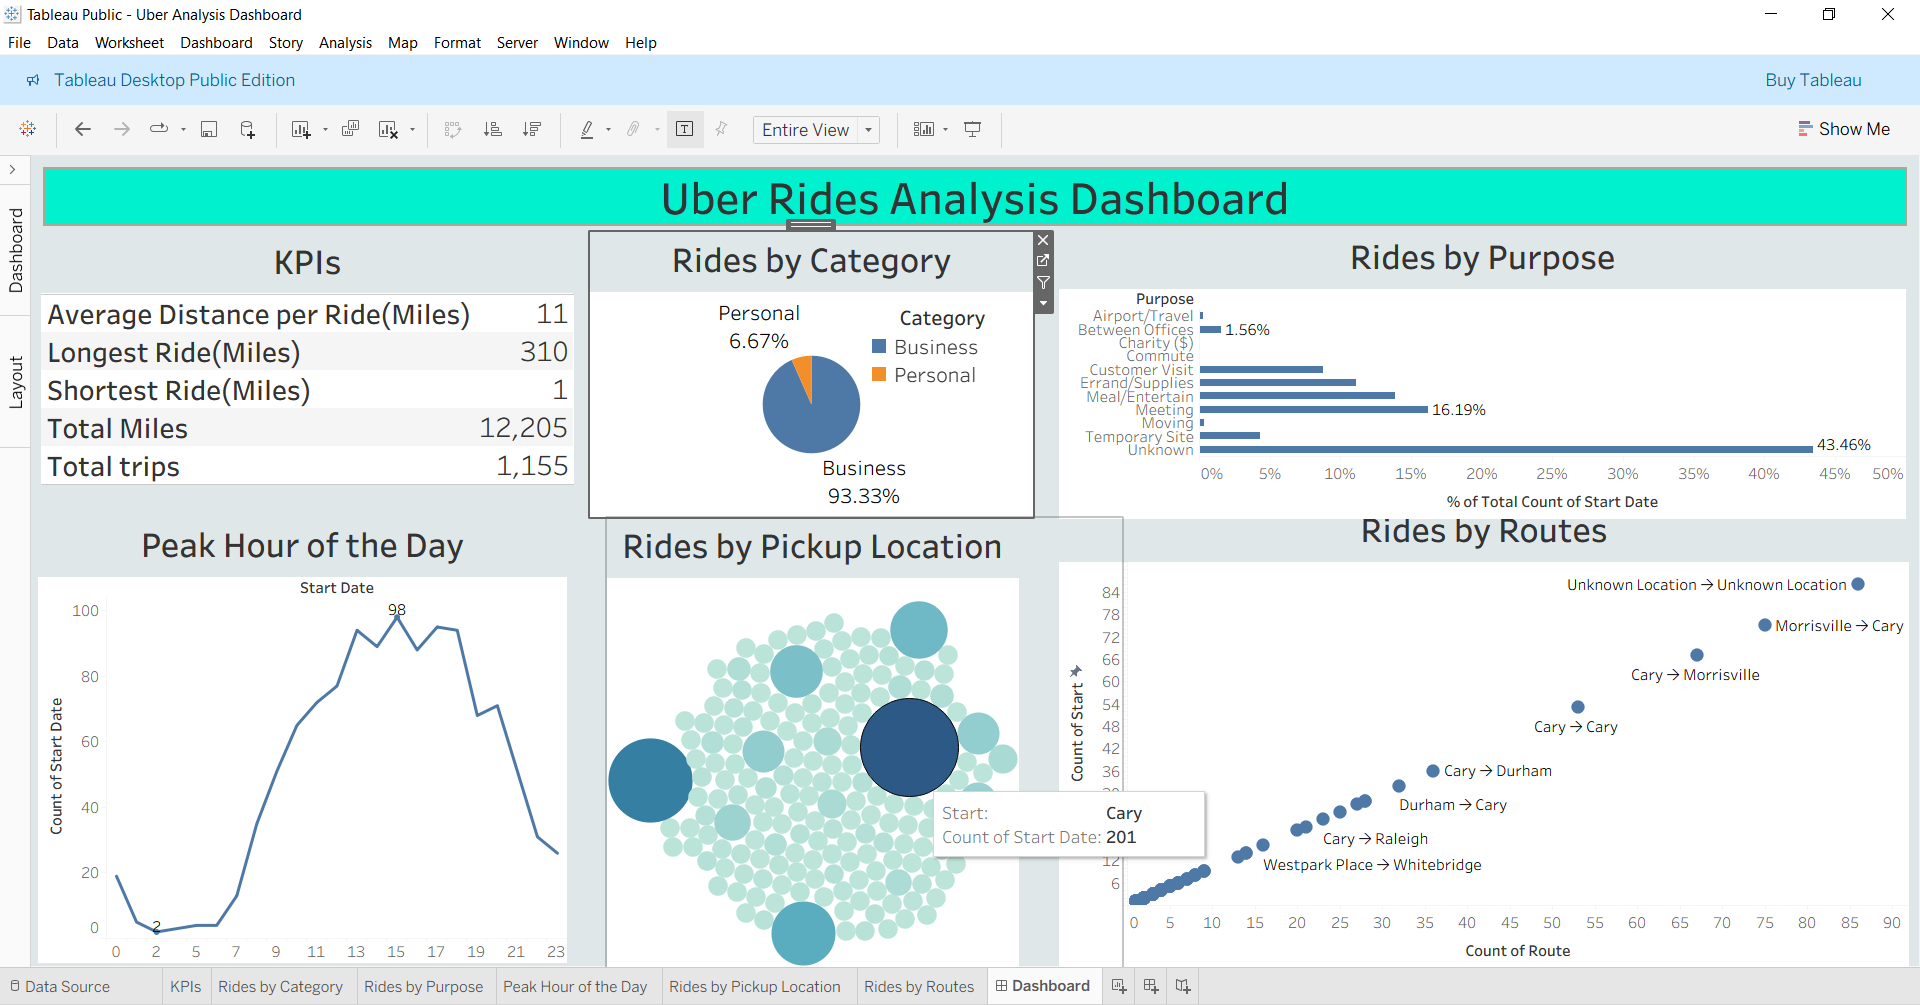

Layout of this report page (visuals, bound fields, positions):
{"tool":"tableau","page":{"name":"Dashboard ","canvas":[1000,1000],"units":"permille","ordinal":0},"visuals":[{"type":"title","box":[4.2,9.9,991.5,82.6]},{"type":"worksheet","title":"Rides by Purpose","mark":"Bar","rows":["PURPOSE"],"cols":["START_DATE"],"box":[544.5,91.2,448.6,357.6]},{"type":"worksheet","title":"Rides by Category","mark":"Pie","box":[296.1,94.9,234.6,351.4]},{"type":"worksheet","title":"KPIs","mark":"Automatic","box":[5.3,97.4,288.7,419.2]},{"type":"legend","title":"Rides by Category","param":"[federated.1jiniq50g6czeo178vxg6049gm0p].[none:CATEGORY:nk]","box":[441.7,182.5,82.1,104.8]},{"type":"worksheet","title":"Rides by Routes","mark":"Circle","rows":["START"],"cols":["Route"],"box":[544.5,427.9,450.2,574.6]},{"type":"worksheet","title":"Peak Hour of the Day","mark":"Line","rows":["START_DATE"],"cols":["START_DATE"],"box":[3.6,446.4,280,549.9]}]}

Visuals, with their boxes on the dashboard's canvas, which has no fixed pixel size, in thousandths of its width and height (x1, y1, x2, y2). These are canvas units, not pixel positions in the 1920x1005 screenshot, which may show the page scaled, cropped or inside an application window:
title: rect(4, 10, 996, 92)
"Rides by Purpose" worksheet (Bar marks): rect(544, 91, 993, 449)
"Rides by Category" worksheet (Pie marks): rect(296, 95, 531, 446)
"KPIs" worksheet: rect(5, 97, 294, 517)
"Rides by Category" legend: rect(442, 182, 524, 287)
"Rides by Routes" worksheet (Circle marks): rect(544, 428, 995, 1002)
"Peak Hour of the Day" worksheet (Line marks): rect(4, 446, 284, 996)
